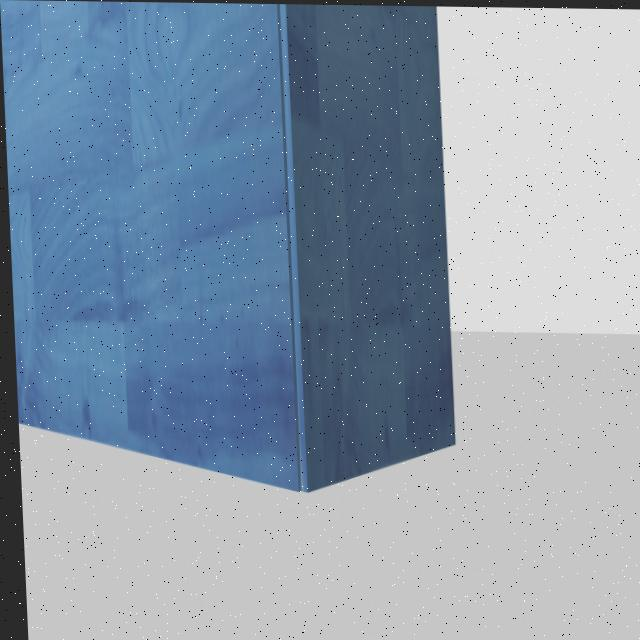shelf: (0, 0, 473, 501)
